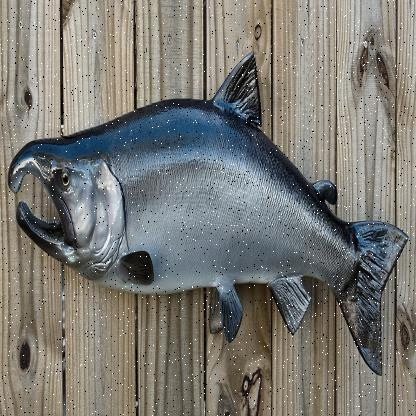fish: (6, 49, 408, 376)
